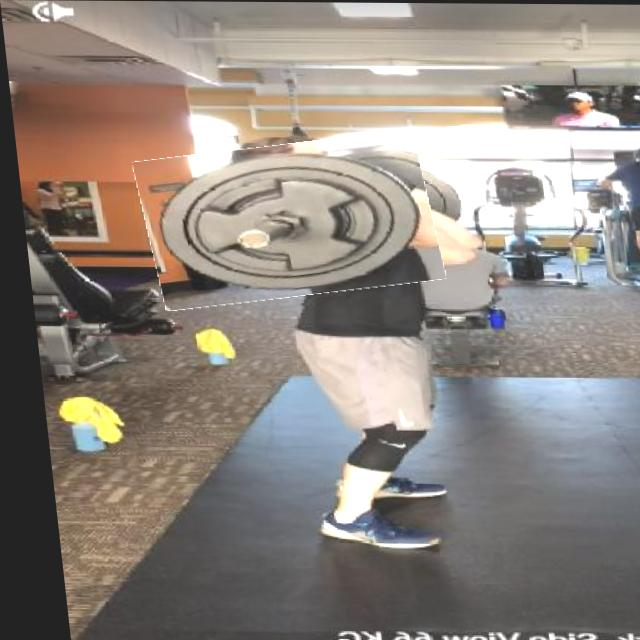barbell: (130, 137, 439, 306)
